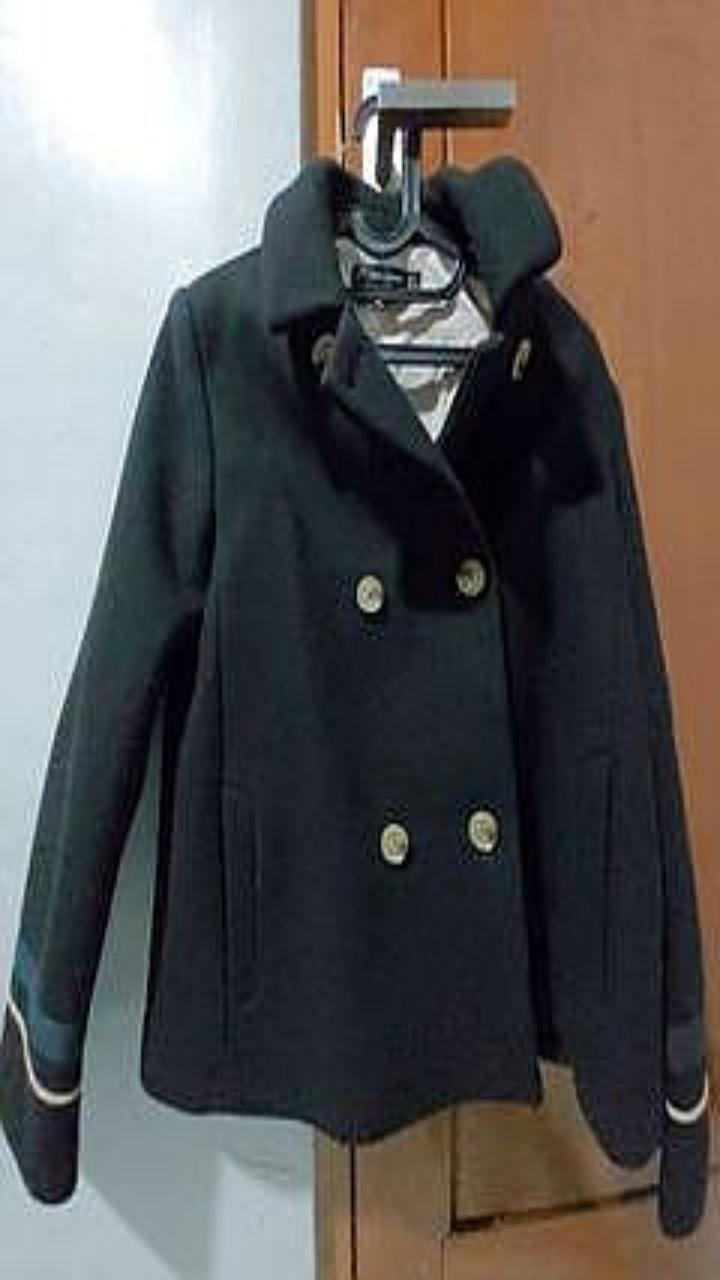Coat: (0, 155, 708, 1235)
